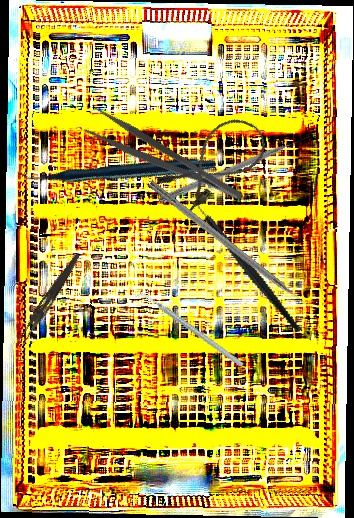Cannula: (153, 107, 275, 219)
Chopper: (180, 176, 302, 354), (133, 263, 245, 396)
Dressing Forceps: (81, 104, 247, 217), (16, 250, 82, 348)
Handpiece: (16, 75, 218, 260)
Hook Surgical: (146, 180, 313, 313)
Pusher: (157, 133, 312, 206)
